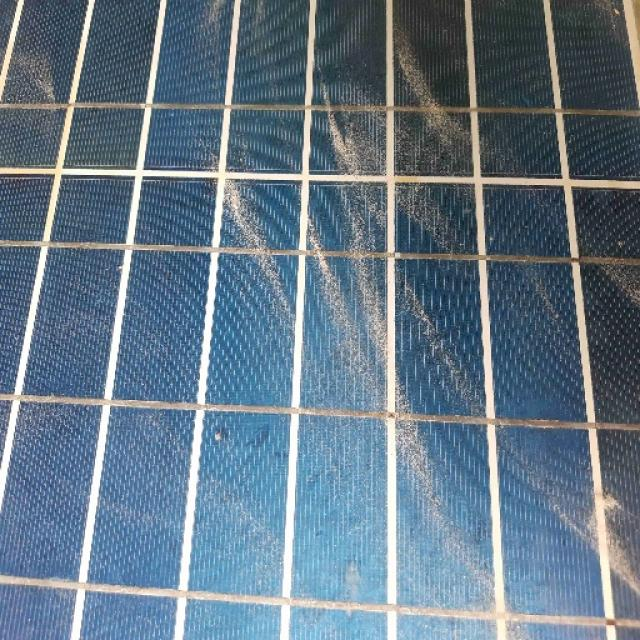Dirty: (0, 0, 638, 519)
